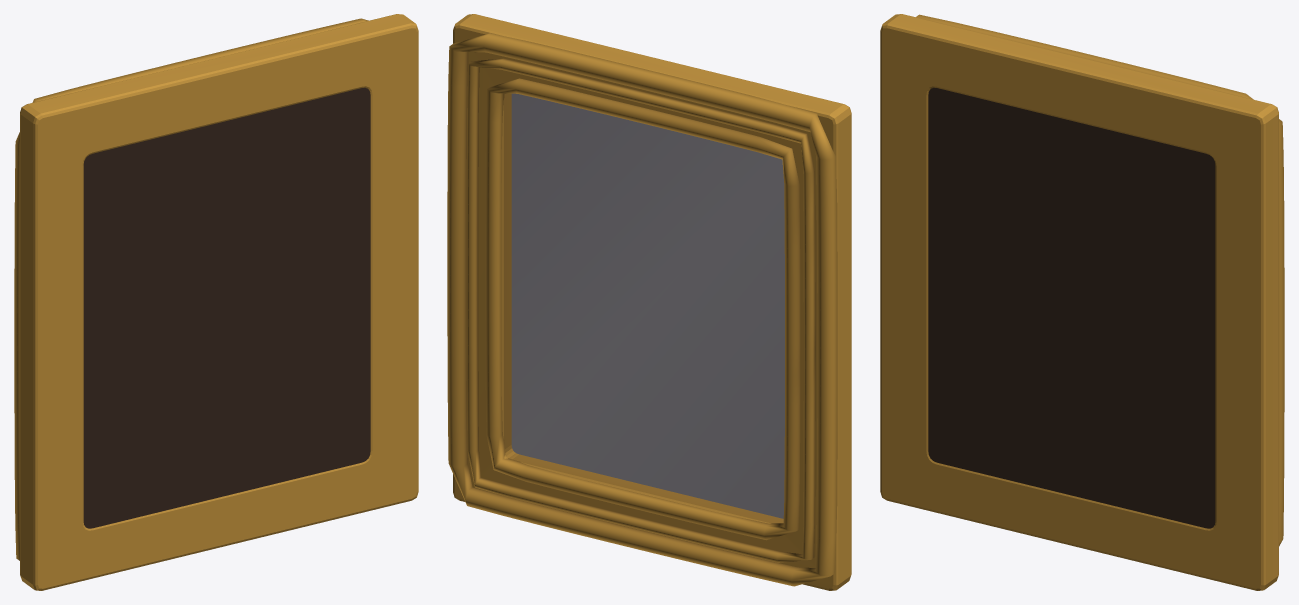
File: frame_picture__021.glb
3 renders of one model, left to right at view 1: azimuth 30°, elevation 25°; view 2: azimuth 150°, elevation 25°; view 3: azimuth 330°, elevation 25°, orthographic.
Visible parts, largest first — view 1: prop_frame_picture, merged_toon_C8963C; view 2: merged_toon_C8963C, prop_frame_picture; view 3: prop_frame_picture, merged_toon_C8963C.
Part boxes in pixels (x1=…): prop_frame_picture: x1=83, y1=87, x2=370, y2=528; merged_toon_C8963C: x1=14, y1=14, x2=418, y2=590; merged_toon_C8963C: x1=447, y1=14, x2=851, y2=590; prop_frame_picture: x1=511, y1=93, x2=784, y2=518; prop_frame_picture: x1=928, y1=87, x2=1215, y2=528; merged_toon_C8963C: x1=880, y1=14, x2=1284, y2=590.
Bounding box in the file's own units: 0.6081 × 0.72 × 0.063.
